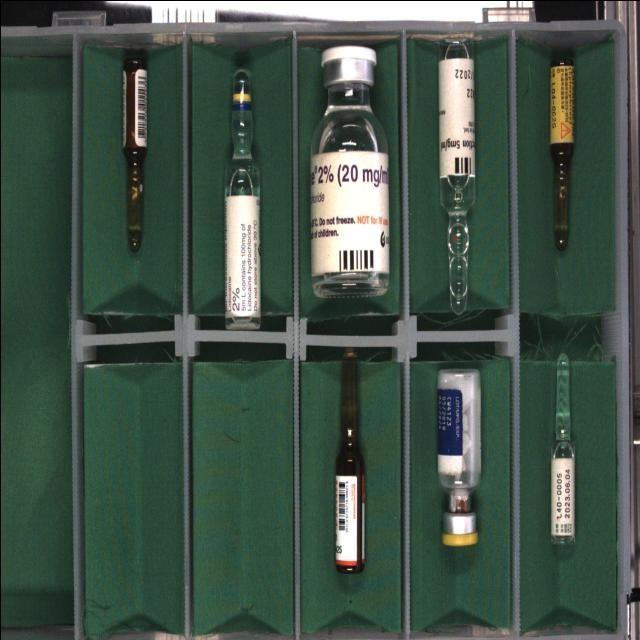Vials: (310, 45, 389, 297), (436, 368, 480, 545), (338, 59, 342, 66)
